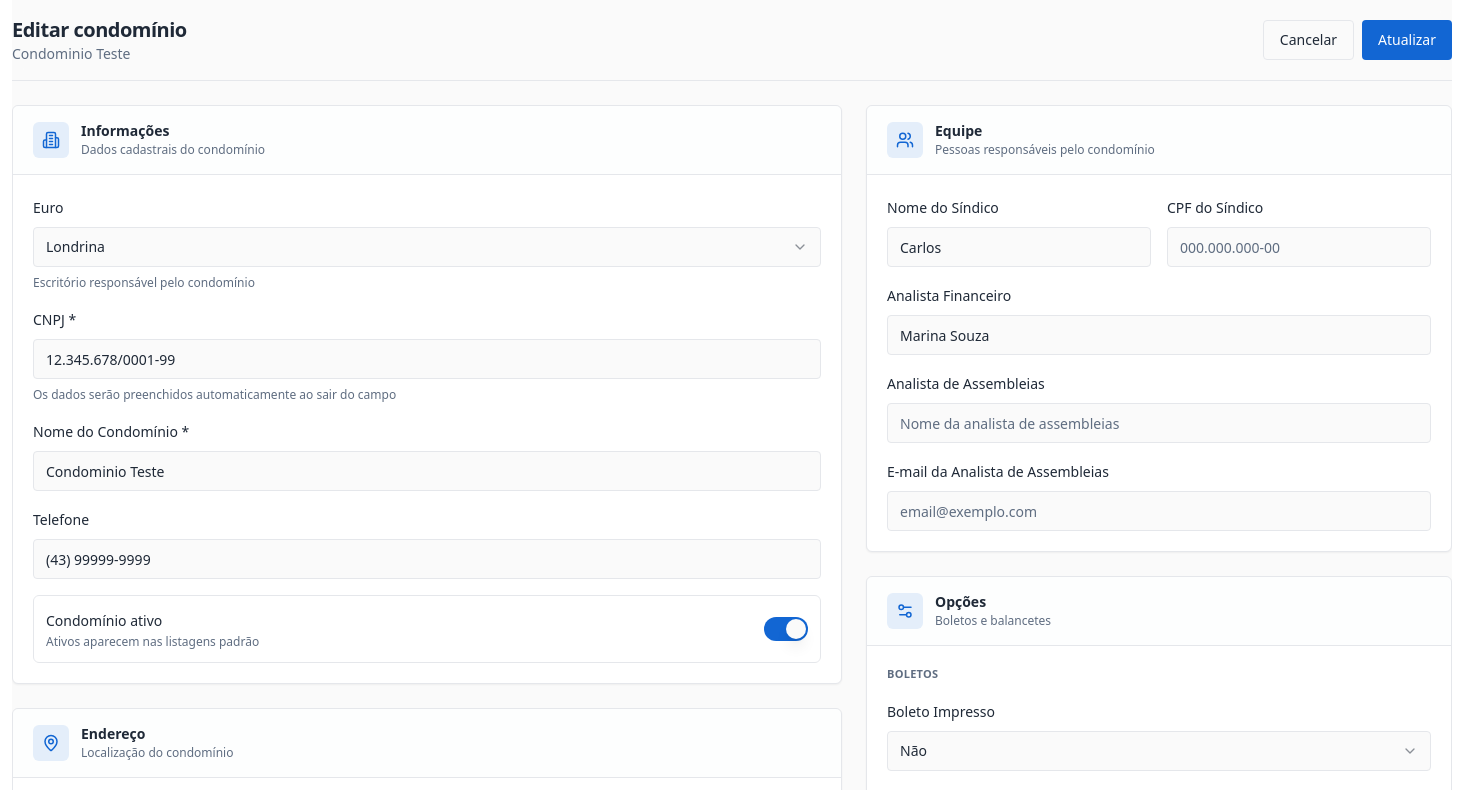
Scenario: CondominiumForm › consulta de CNPJ › permite editar e salvar os dados existentes após uma falha na consulta
Later steps or results of the test are not shown.
Replace the text in the field labelled "CNPJ *" with "68.009.455/0001-01" at (427, 359), box [33,339,821,379]
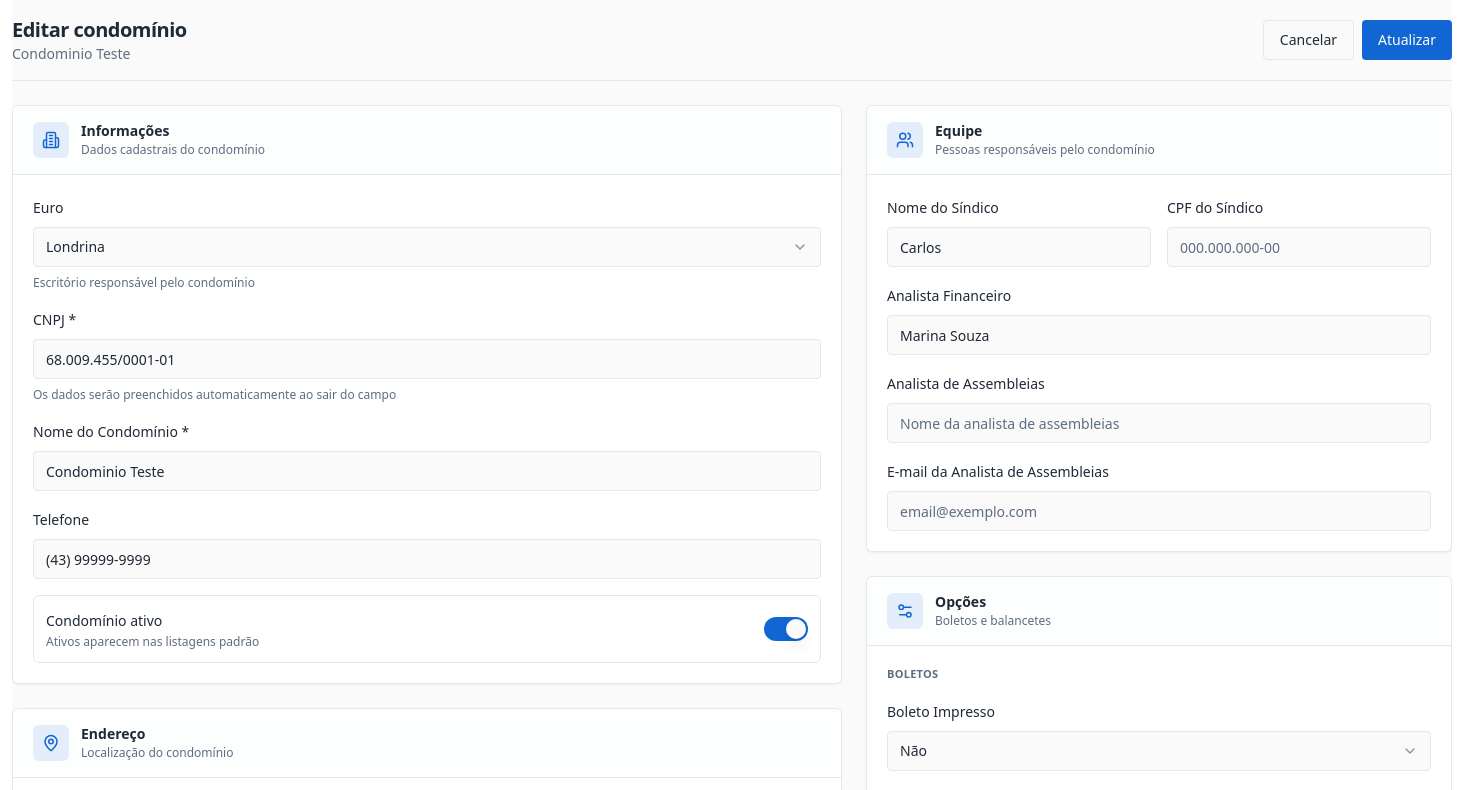
Leave the field labelled "CNPJ *", box [33,339,821,379]
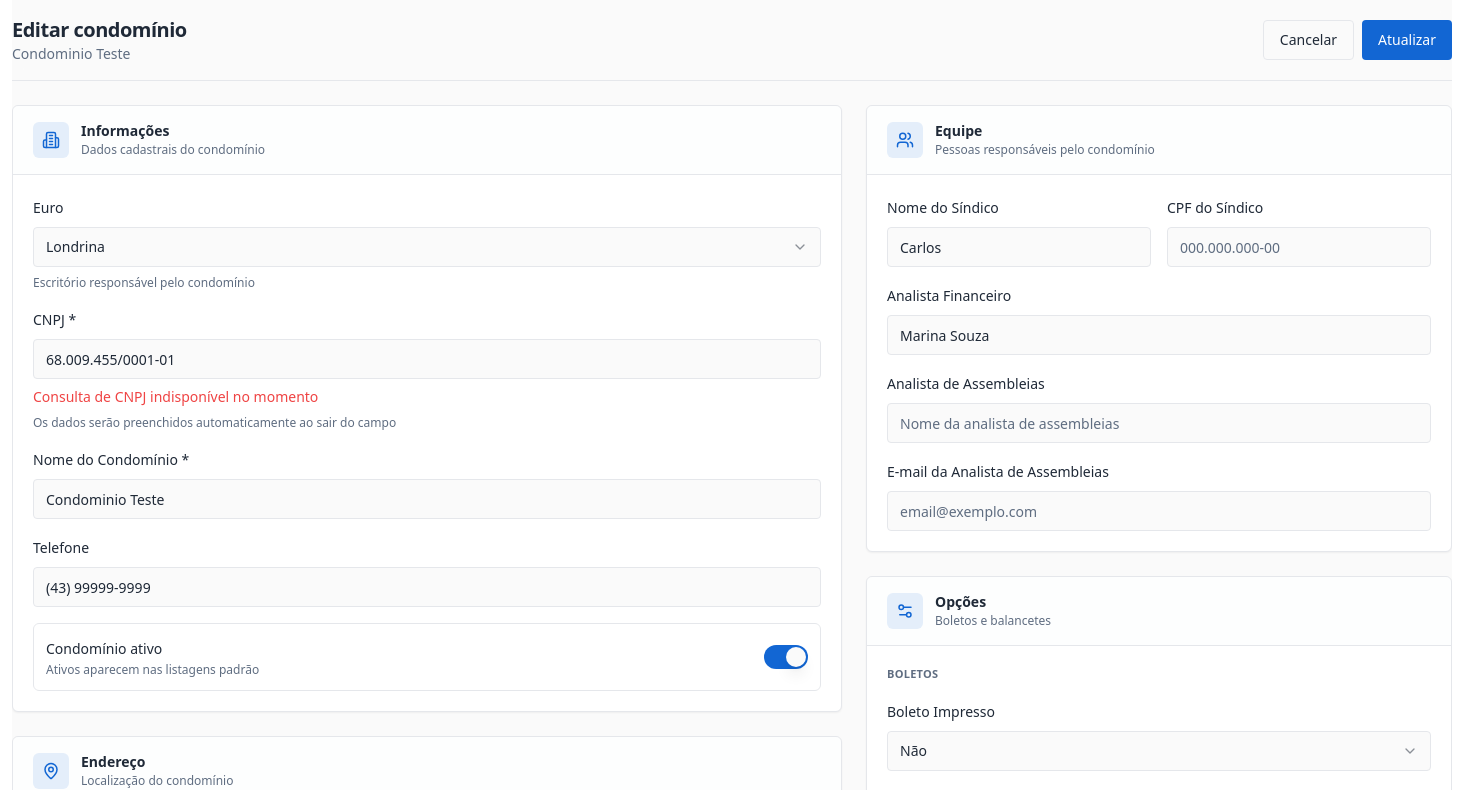
Check: the field labelled "Nome do Condomínio *" holds "Condominio Teste", box [33,479,821,519]
Check: the text "Consulta de CNPJ indisponível no momento" is shown, box [33,387,318,406]
